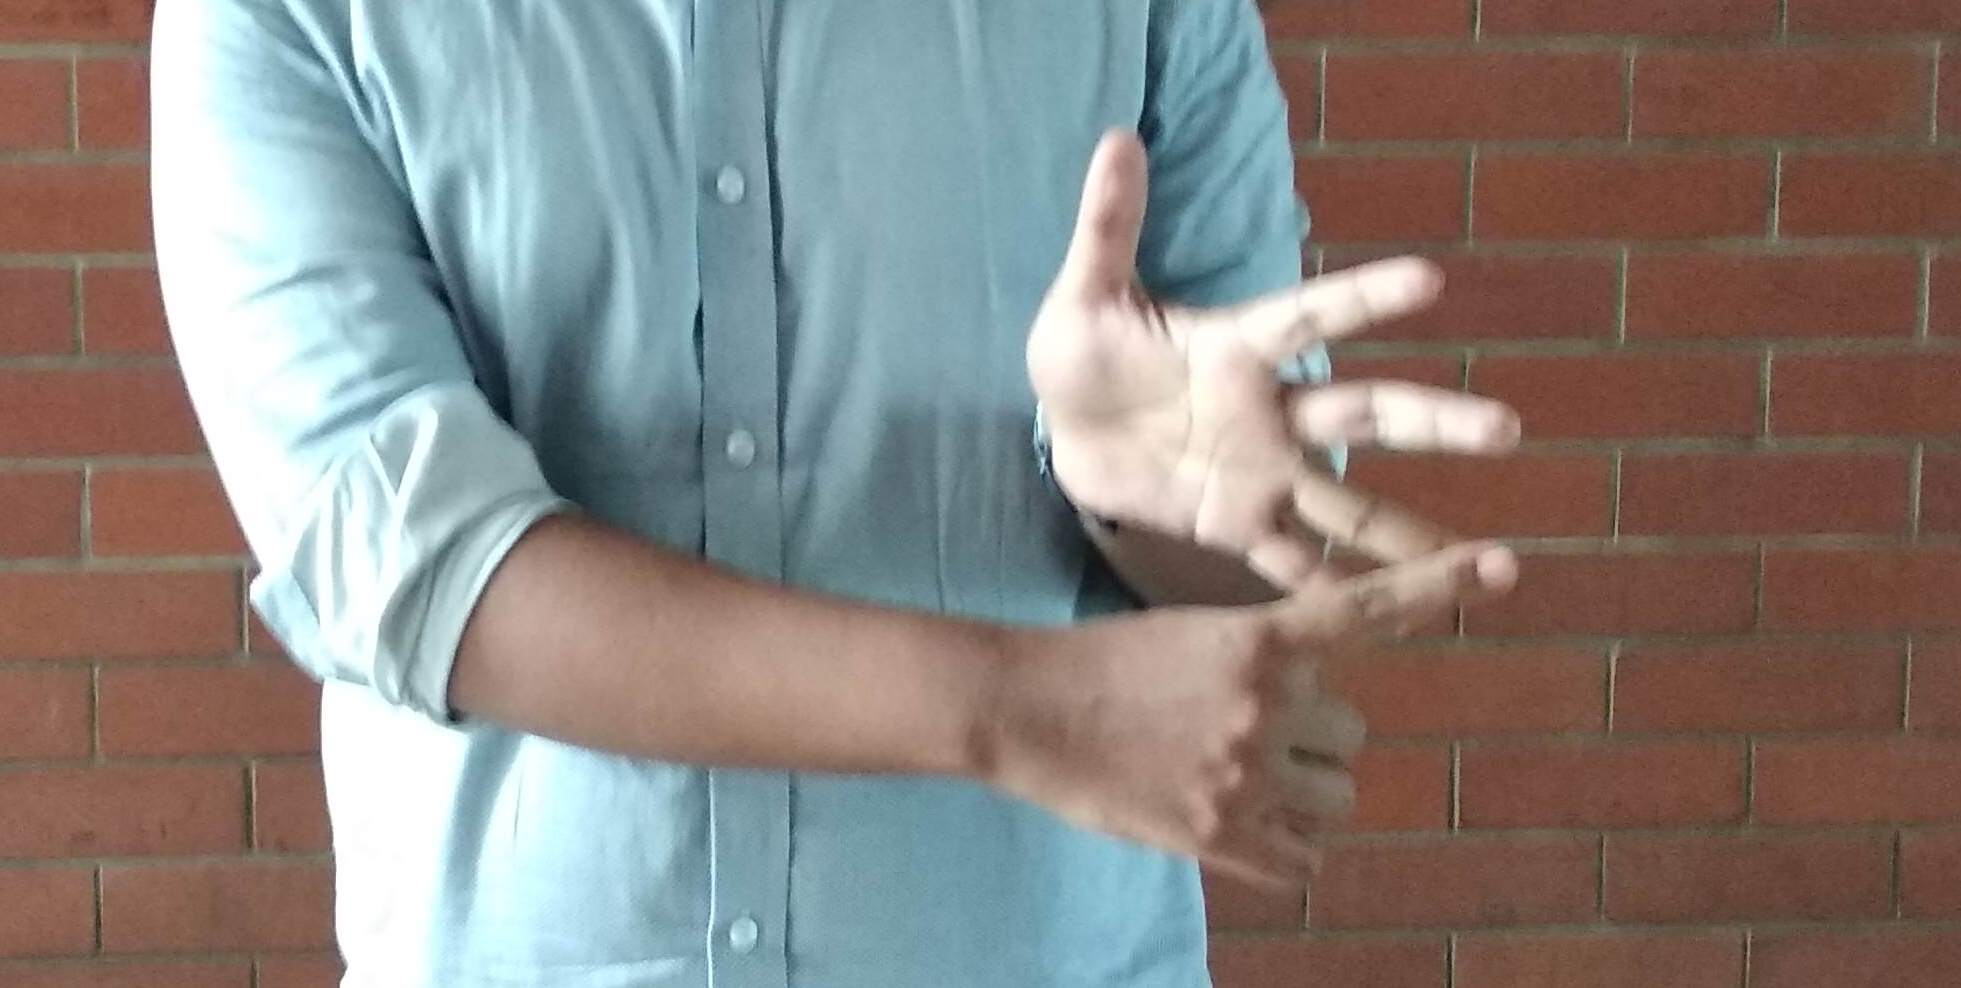e: (1037, 187, 1515, 875)
